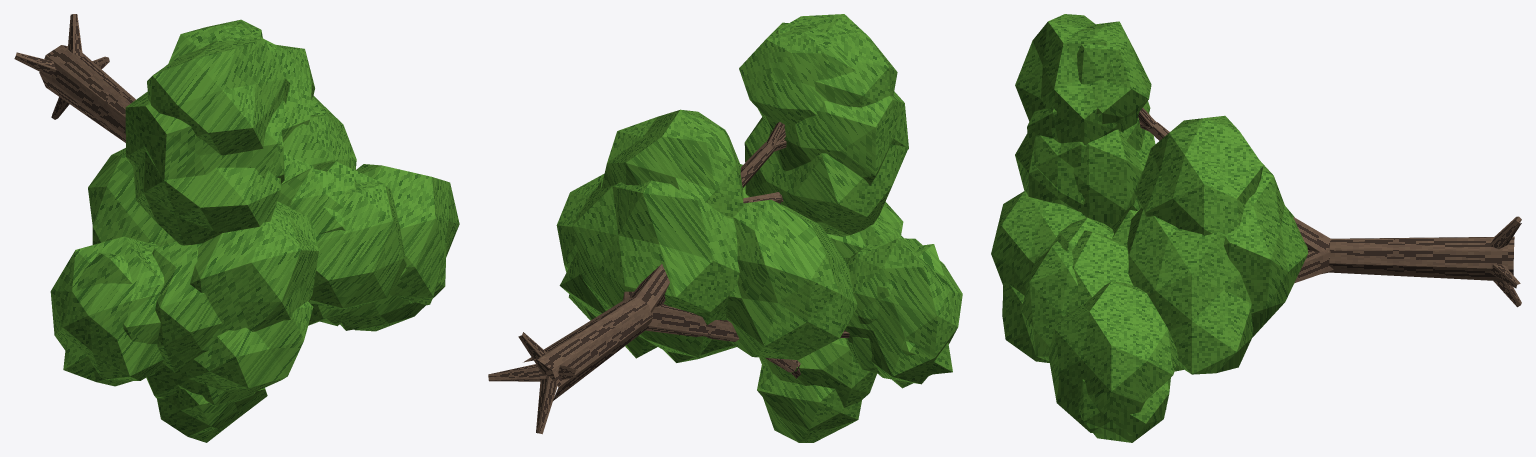
The model's file is maple_tree_small.glb.
The picture shows the model from 3 angles, left to right: view 1: azimuth 30°, elevation 25°; view 2: azimuth 150°, elevation 25°; view 3: azimuth 270°, elevation 25°; orthographic projection. The views are drawn at different scales.
Visible parts, largest first — view 1: leaves, bark; view 2: leaves, bark; view 3: leaves, bark.
Boxes of the visible parts, <box> form: leaves: <box>50,19,459,442</box>; bark: <box>14,14,135,142</box>; leaves: <box>556,14,962,442</box>; bark: <box>488,121,849,434</box>; leaves: <box>991,14,1308,442</box>; bark: <box>1138,107,1521,307</box>.
Size of the model in its own units: 4.79 by 4.75 by 5.74.
Materials: 2 (2 with a texture image).
